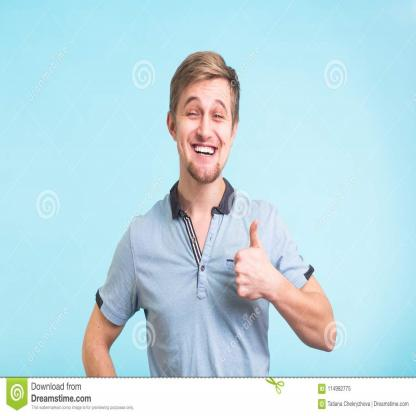Thumbs-Up: (233, 217, 272, 302)
